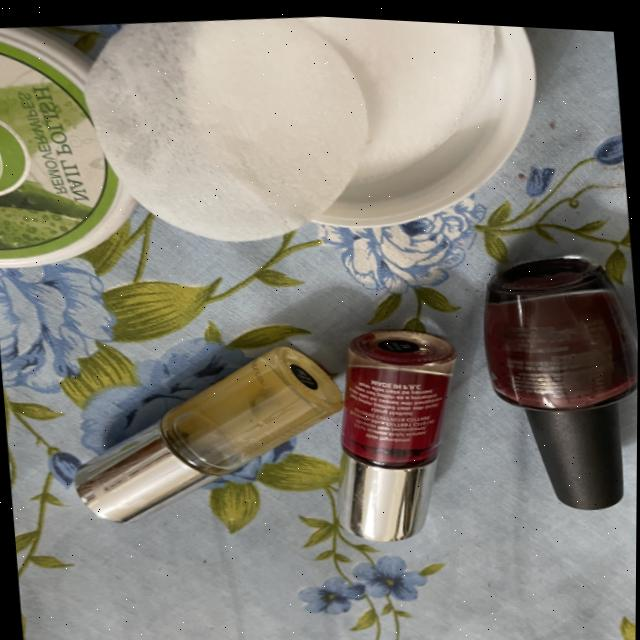nail polish: (52, 311, 357, 544), (476, 234, 639, 535), (306, 300, 486, 549)
nail polish remover: (65, 3, 563, 281)
